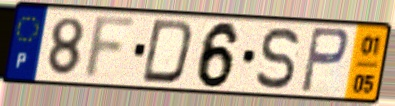6: (193, 19, 244, 91)
8: (46, 15, 89, 77)
D: (138, 17, 196, 87)
F: (80, 14, 142, 83)
P: (298, 25, 351, 96)
S: (253, 25, 302, 92)
